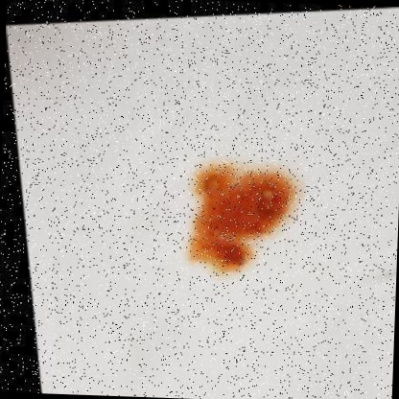kimchi: (185, 161, 299, 284)
